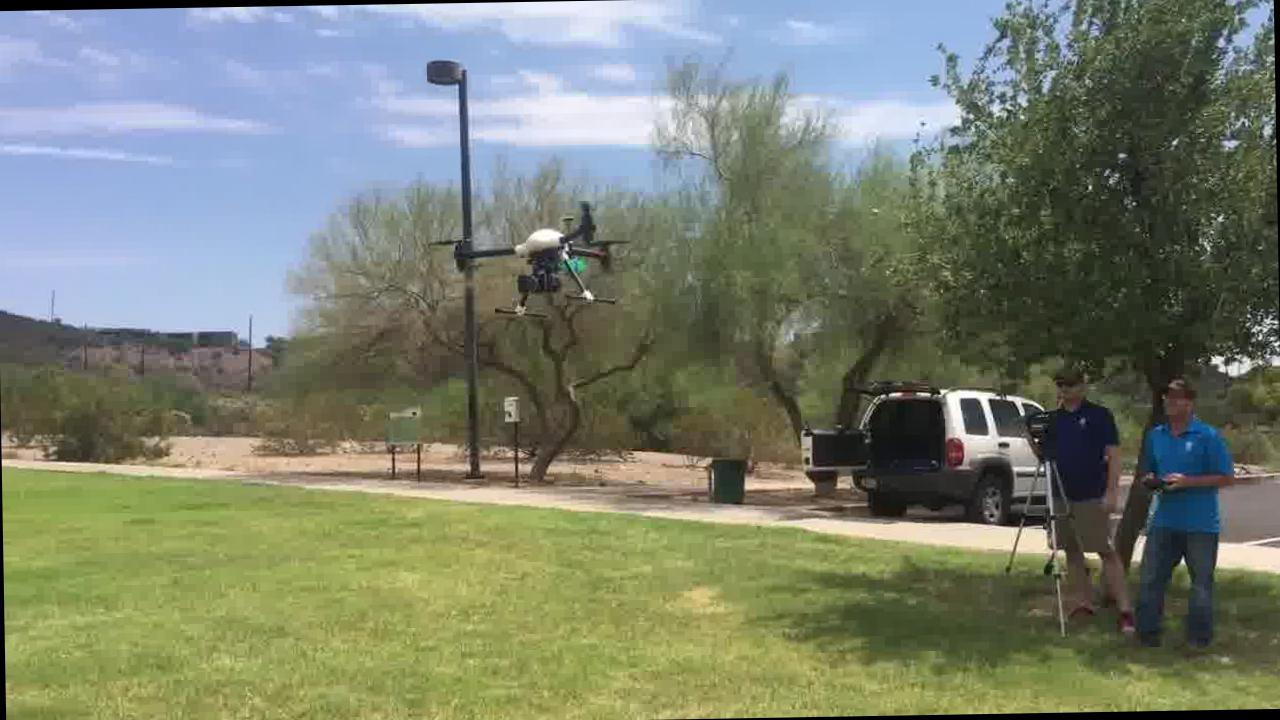drone: (448, 202, 626, 322)
